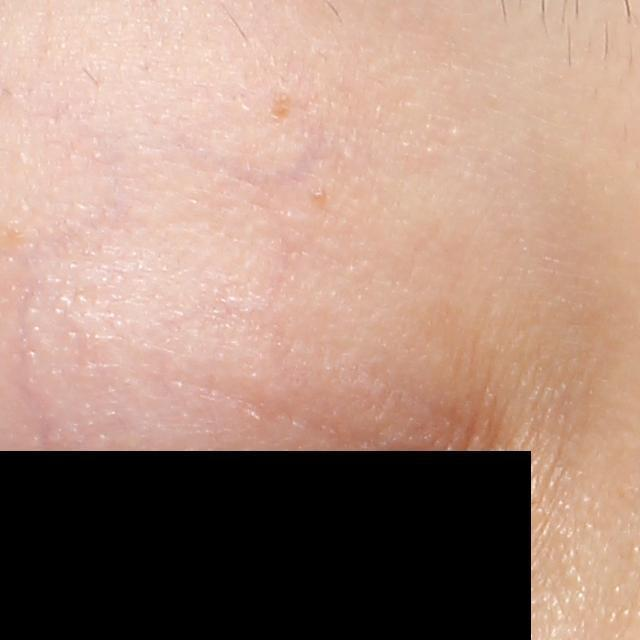melasma: (261, 94, 294, 129)
